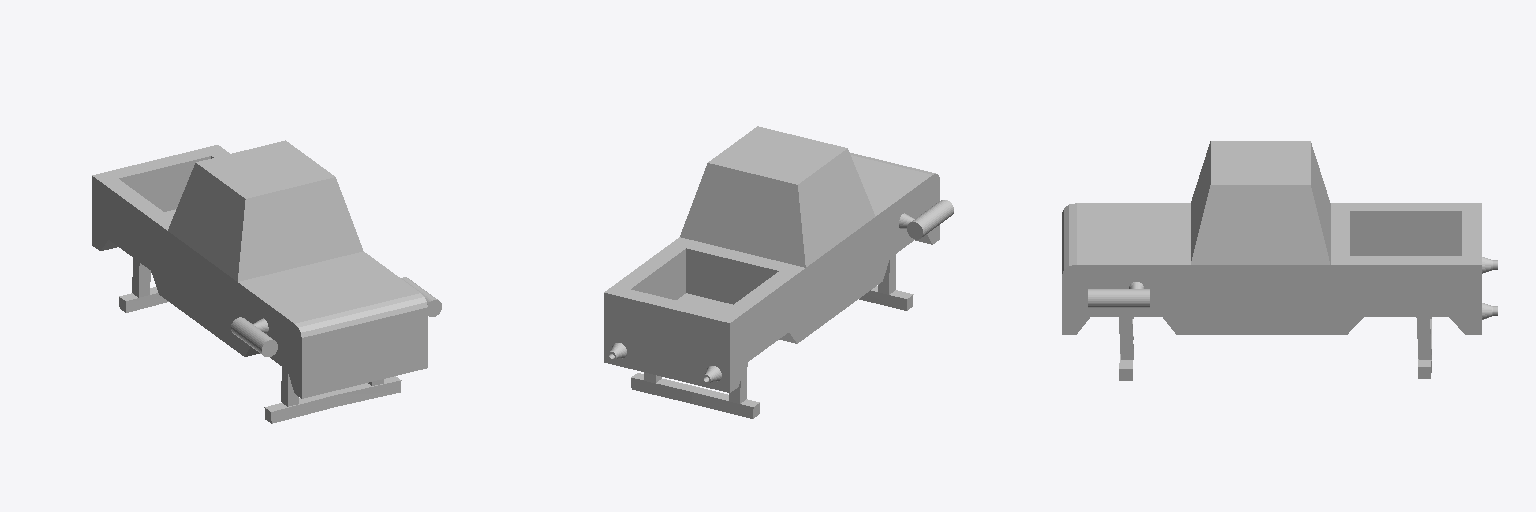
File: truck.obj
3 views of the same model, side by side, from view 1: azimuth 30°, elevation 25°; view 2: azimuth 150°, elevation 25°; view 3: azimuth 270°, elevation 25° (orthographic).
Visible parts, largest first — view 1: Cube.001; view 2: Cube.001; view 3: Cube.001.
Boxes of the visible parts, x1=… form: Cube.001: x1=92, y1=140, x2=441, y2=423; Cube.001: x1=604, y1=126, x2=953, y2=418; Cube.001: x1=1062, y1=141, x2=1497, y2=380.
Bounding box in the file's own units: 2.86 × 2.83 × 5.97.